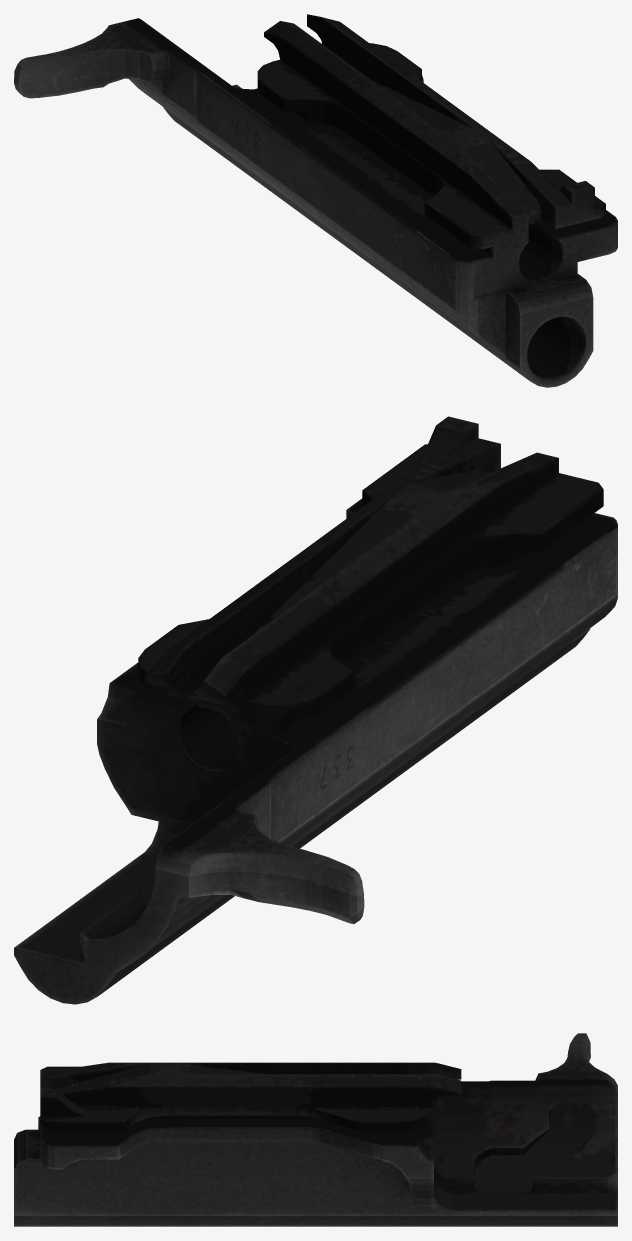
3 views of the same model, one above another, from view 1: azimuth 30°, elevation 25°; view 2: azimuth 150°, elevation 25°; view 3: azimuth 270°, elevation 25° (orthographic). The views are drawn at different scales.
Parts seen in each view (by area): view 1: TW_5c46fbd72e2216398b5a8c9c_PZ_Import; view 2: TW_5c46fbd72e2216398b5a8c9c_PZ_Import; view 3: TW_5c46fbd72e2216398b5a8c9c_PZ_Import.
Boxes of the visible parts, x1=… form: TW_5c46fbd72e2216398b5a8c9c_PZ_Import: x1=14, y1=14, x2=617, y2=387; TW_5c46fbd72e2216398b5a8c9c_PZ_Import: x1=14, y1=416, x2=617, y2=1004; TW_5c46fbd72e2216398b5a8c9c_PZ_Import: x1=14, y1=1033, x2=617, y2=1226.
Bounding box in the file's own units: 0.0341 × 0.0735 × 0.0211.
Materials: 1 (1 with a texture image).
